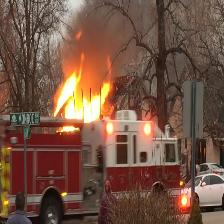fire: (59, 75, 109, 116)
smoke: (71, 11, 131, 68)
